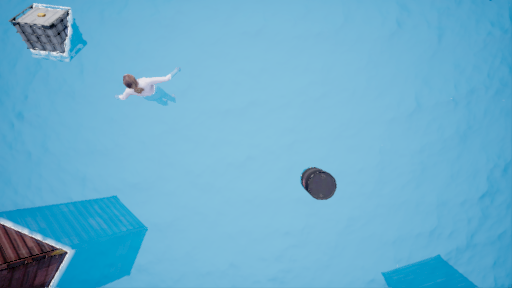person: (111, 69, 185, 108)
